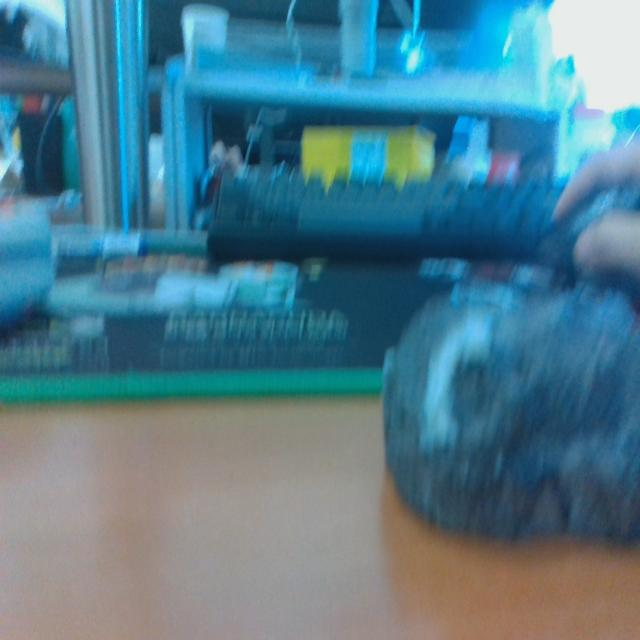stone: (378, 281, 640, 552)
